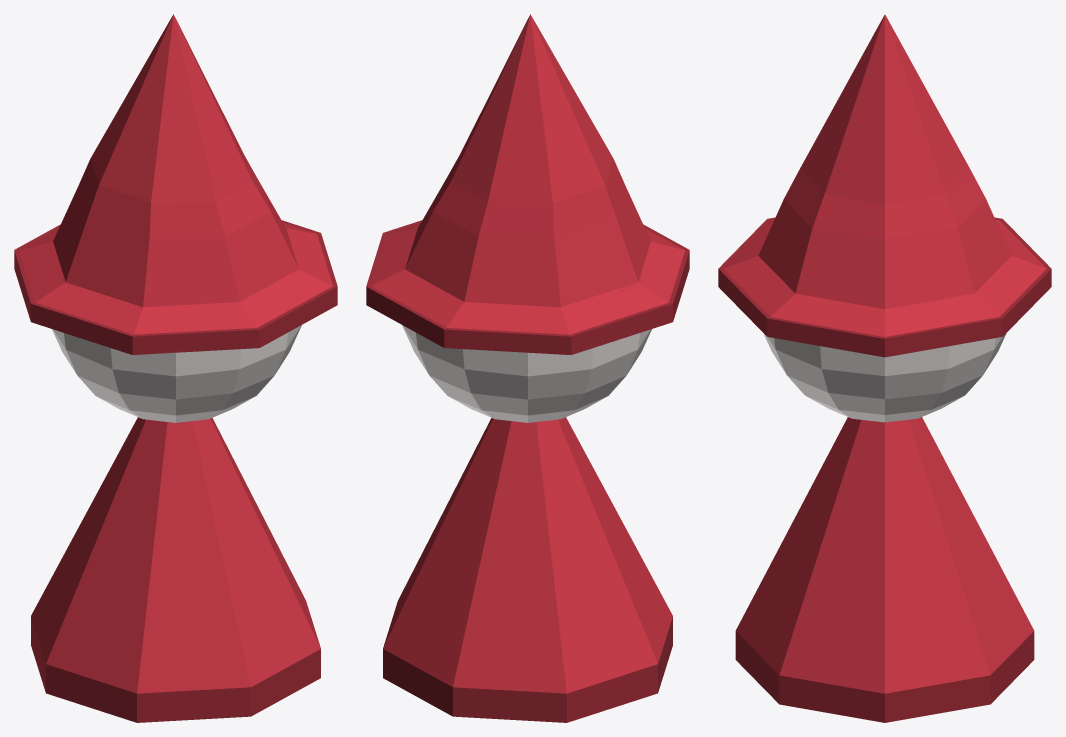
File: pyromancer.fbx
3 views of the same model, side by side, from view 1: azimuth 30°, elevation 25°; view 2: azimuth 150°, elevation 25°; view 3: azimuth 270°, elevation 25° (orthographic).
Visible parts, largest first — view 1: Cylinder, Cylinder.002, Sphere, Cylinder.001; view 2: Cylinder, Cylinder.002, Sphere, Cylinder.001; view 3: Cylinder, Cylinder.002, Sphere, Cylinder.001.
Part boxes in pixels (box(x1,y1,x2,y2)): Cylinder: box(31, 417, 320, 722); Cylinder.002: box(19, 14, 332, 334); Sphere: box(52, 325, 301, 422); Cylinder.001: box(14, 220, 337, 354); Cylinder: box(383, 417, 672, 722); Cylinder.002: box(371, 14, 684, 334); Sphere: box(402, 325, 651, 422); Cylinder.001: box(366, 220, 689, 354); Cylinder: box(735, 417, 1034, 722); Cylinder.002: box(723, 14, 1046, 336); Sphere: box(763, 333, 1006, 422); Cylinder.001: box(718, 217, 1051, 357).
Size of the model in its own units: 40.77 by 87.04 by 40.77.
4 materials, 4 textured.
